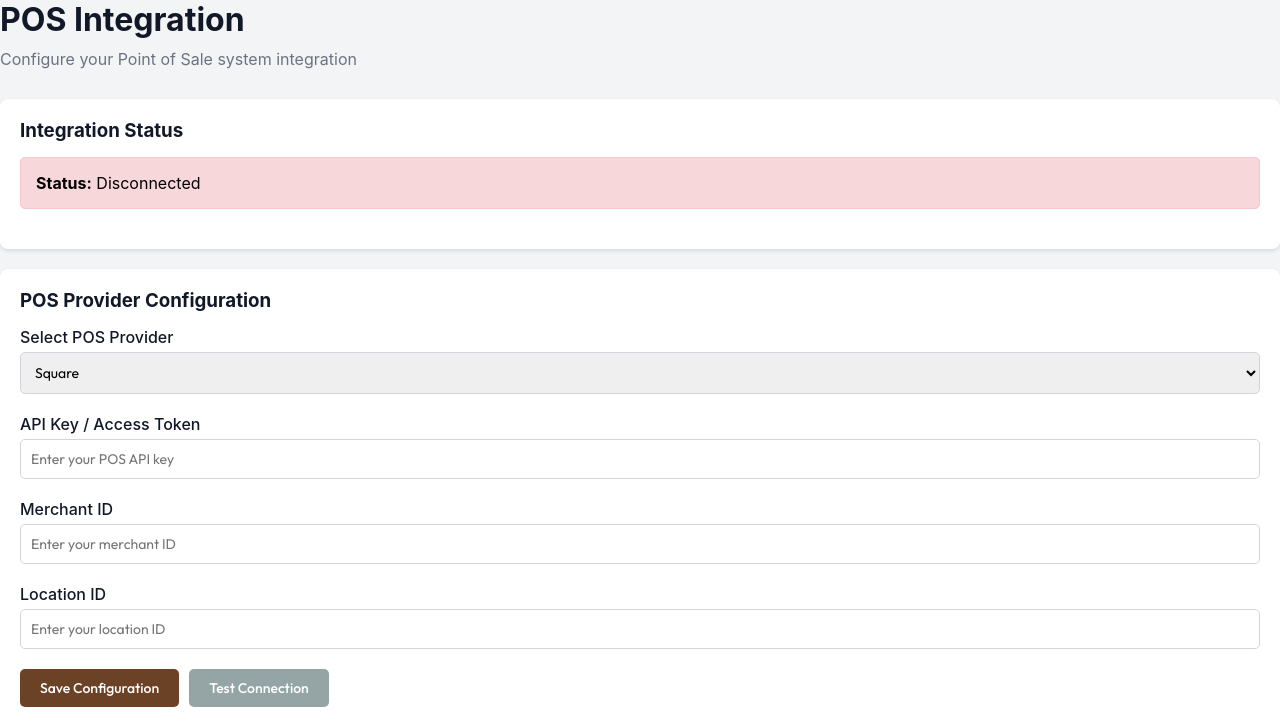
Test: POSIntegration › shows success message after save
Click the button "Save Configuration". click: (100, 688)
box: [20,669,179,707]
(page scrolled)
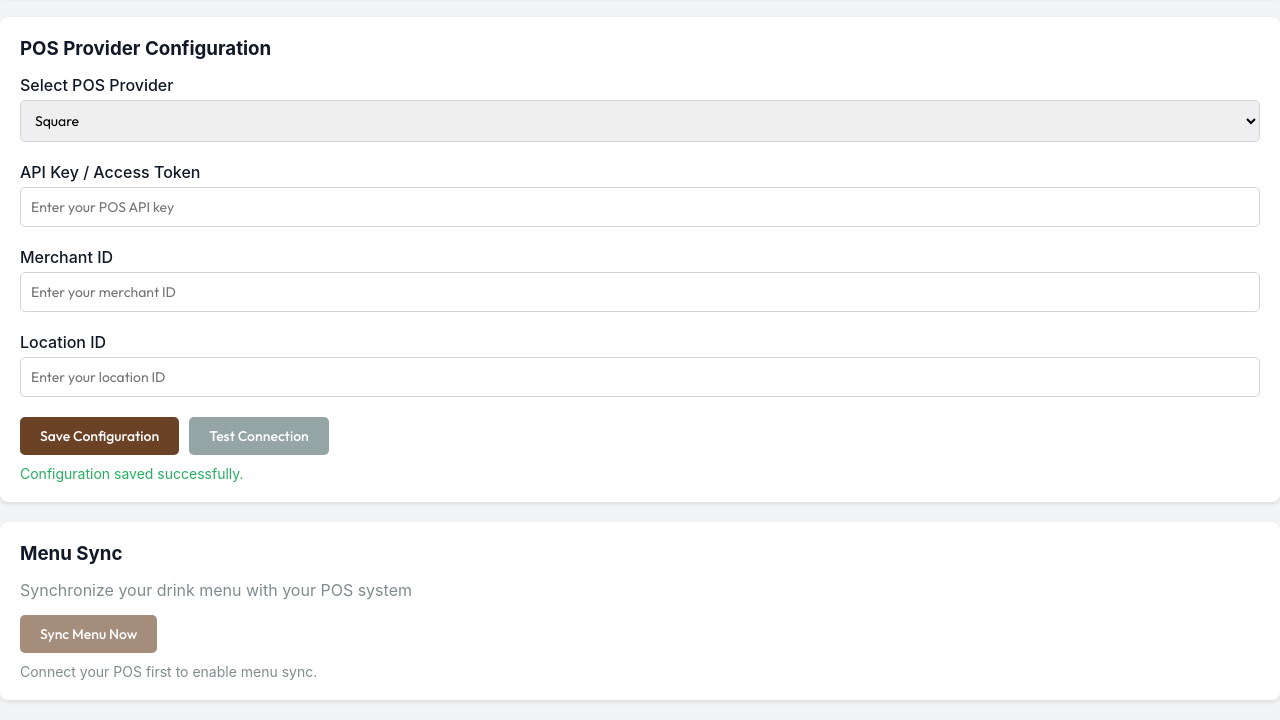
Result: the text "Configuration saved successfully." is shown at [20,465,244,482]
